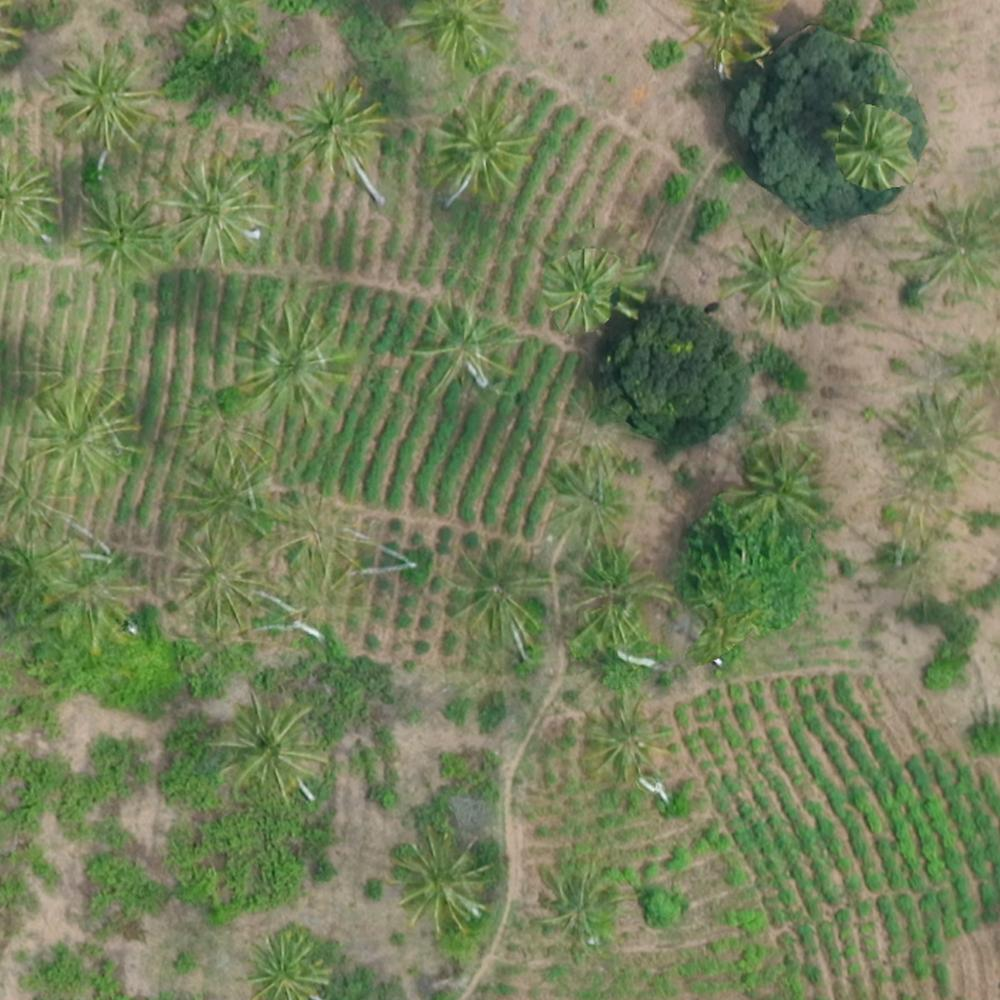Palm: (237, 312, 341, 415), (169, 156, 267, 261), (425, 99, 524, 197), (62, 56, 158, 150), (391, 834, 486, 926), (226, 700, 316, 793), (416, 301, 508, 391), (406, 1, 513, 75), (453, 549, 543, 636), (727, 234, 818, 318), (76, 199, 164, 280), (290, 85, 378, 166), (915, 202, 995, 289), (735, 447, 820, 517), (240, 932, 327, 994), (838, 110, 909, 181), (548, 257, 612, 325)
